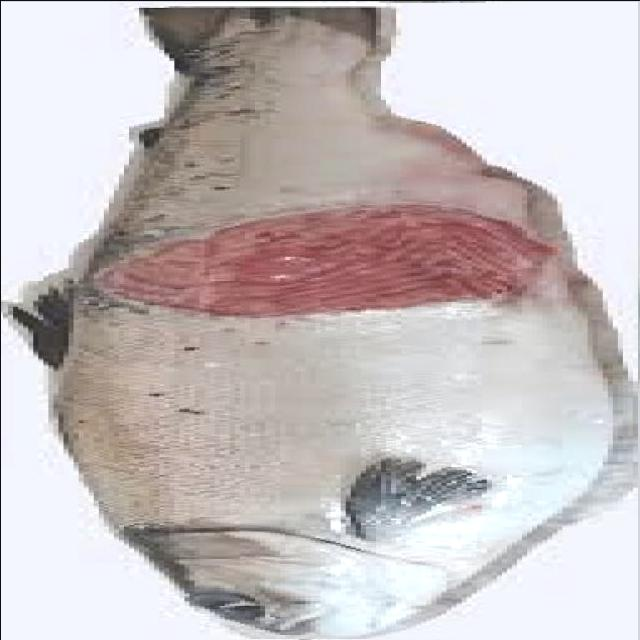EUS Disease: (0, 1, 637, 639), (93, 150, 434, 490)
